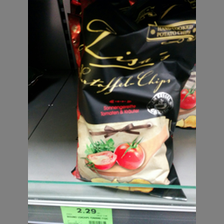chips: (69, 17, 186, 195)
